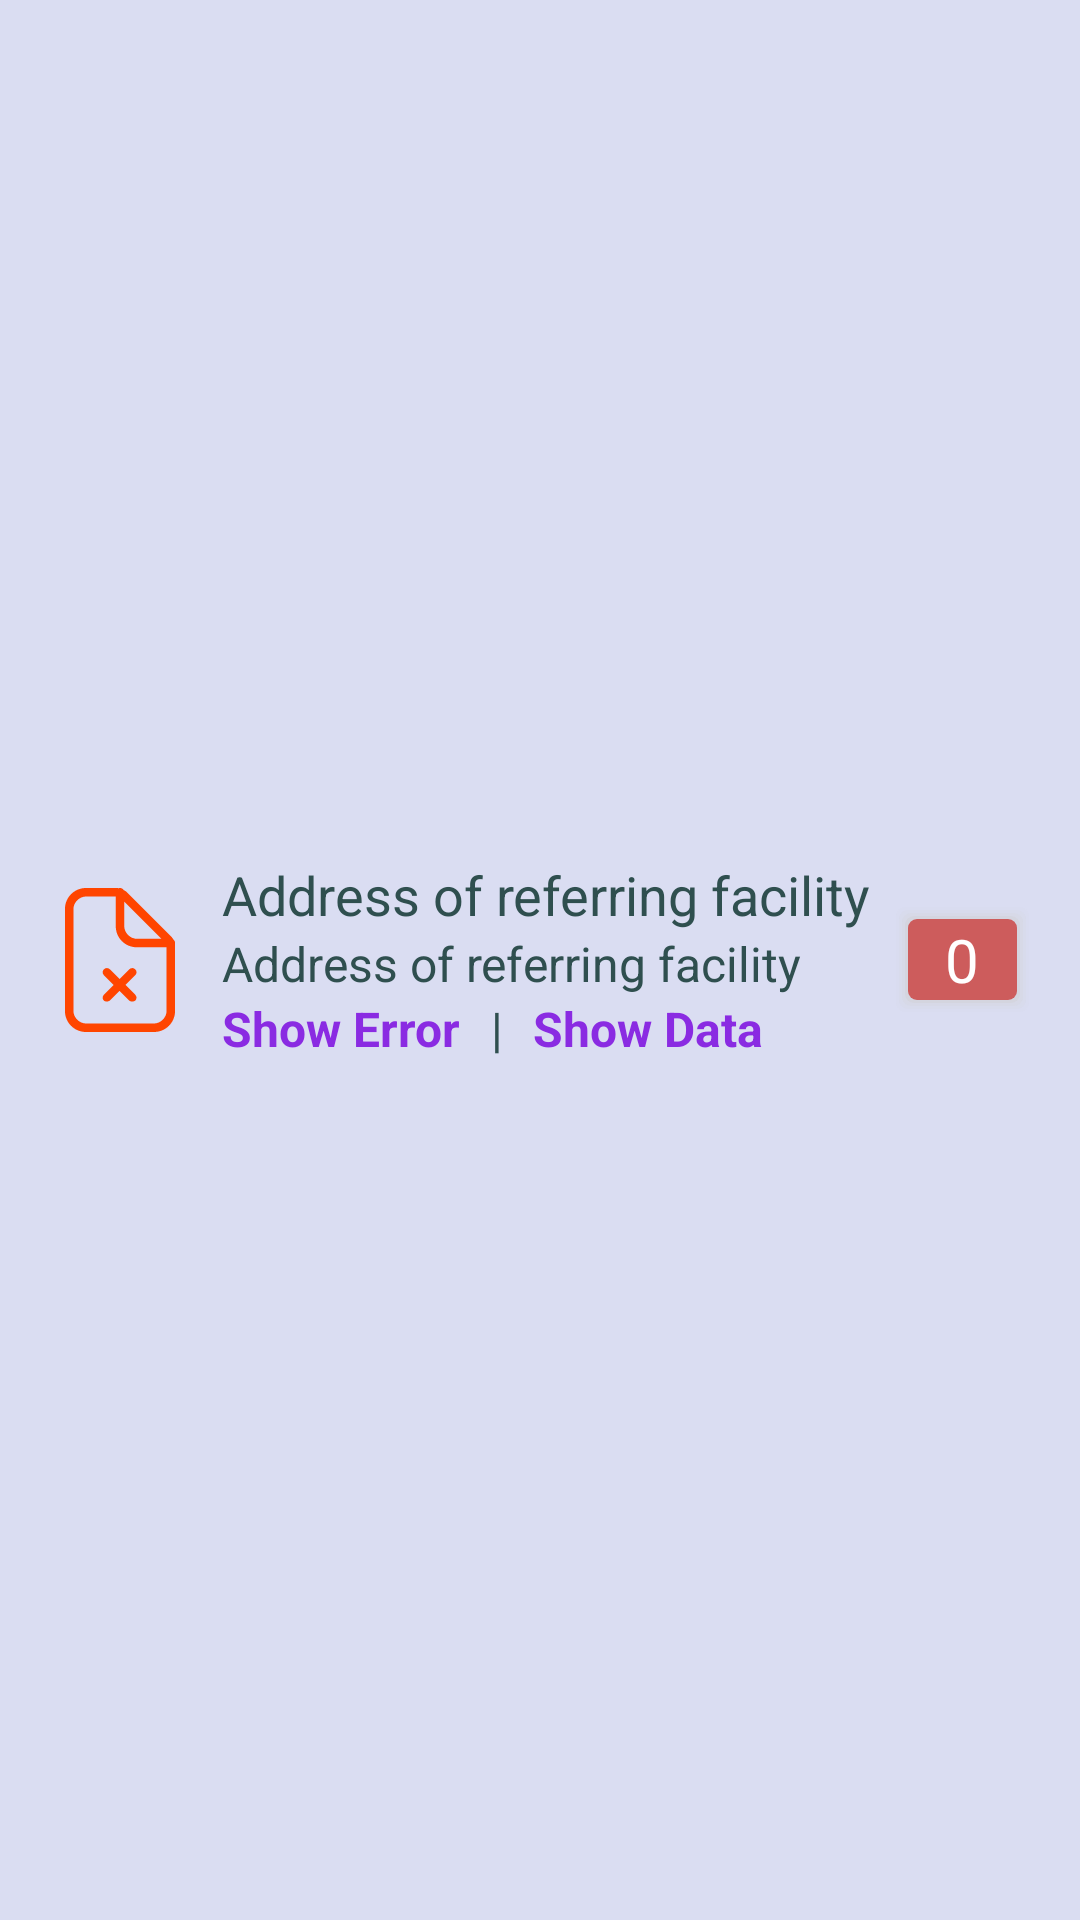

Screen size 1080x1920. Icon name, then its center in pixels as [x,y]:
corrupt data: [120,960]
